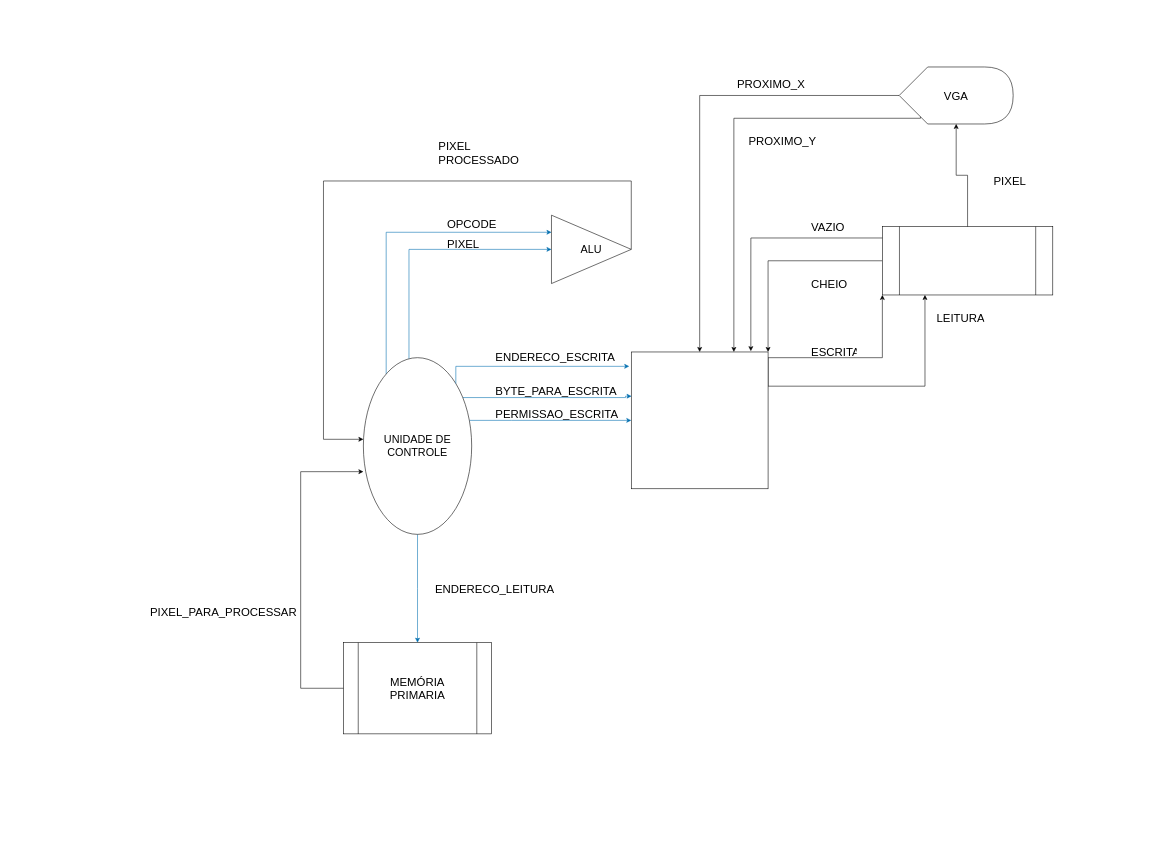
Image size: 1171x846. Some labels were removed from this diagram. The centre of each missing label's shape, as x and y in pixels:
CONTROLE VGA: [699,420]
FIFO: [967,260]
